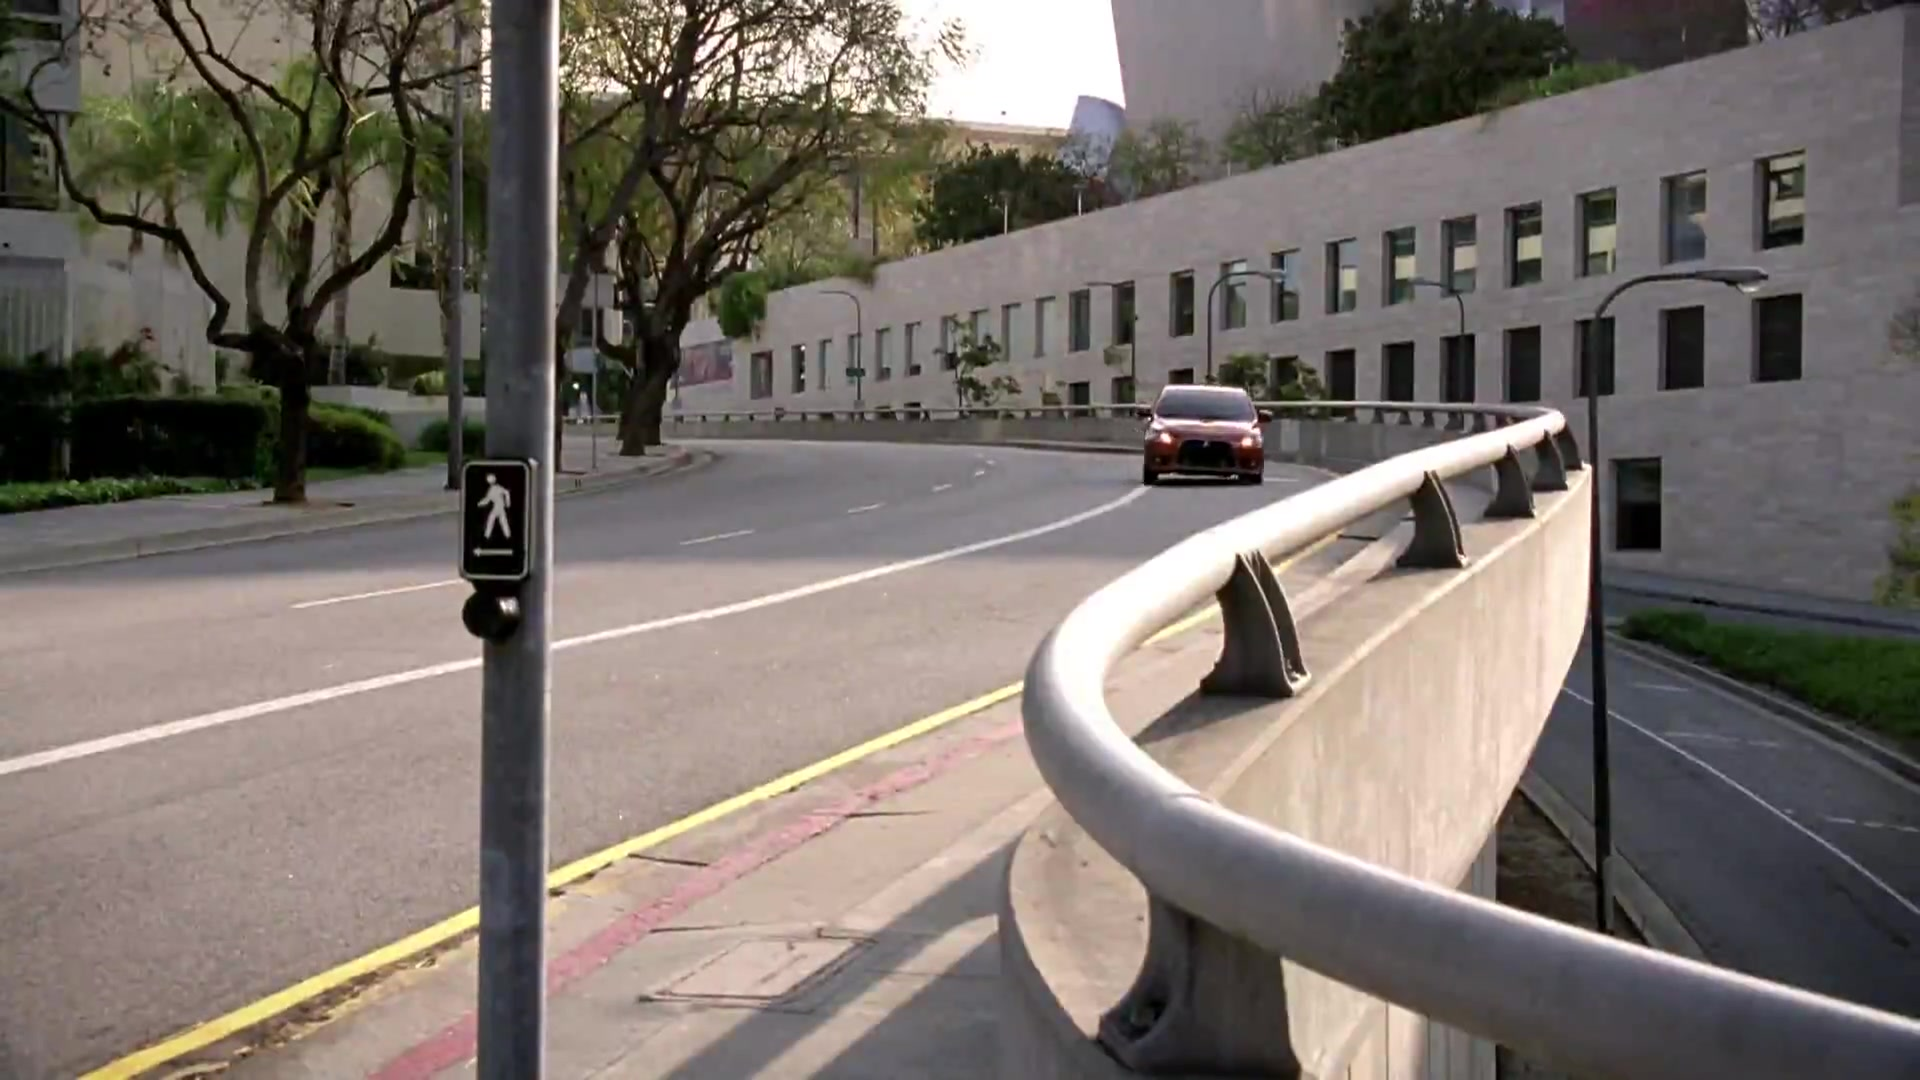car: (1141, 369, 1276, 488)
